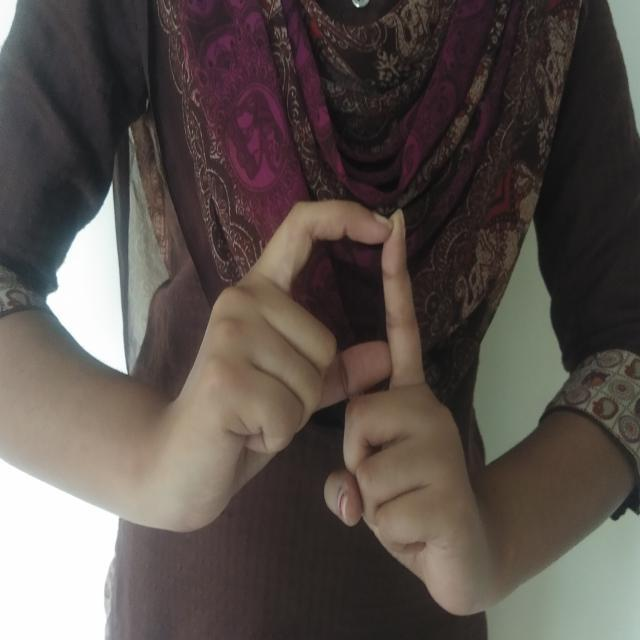D: (153, 169, 497, 601)
